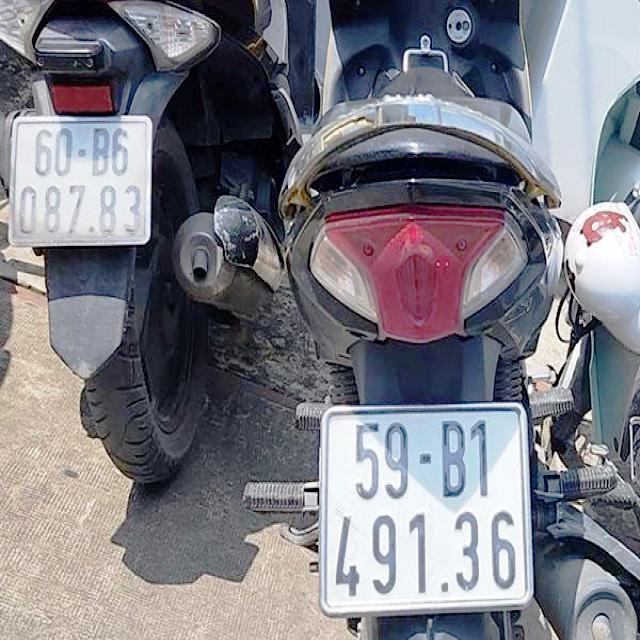license_plate: (324, 409, 534, 614), (11, 120, 151, 246)
